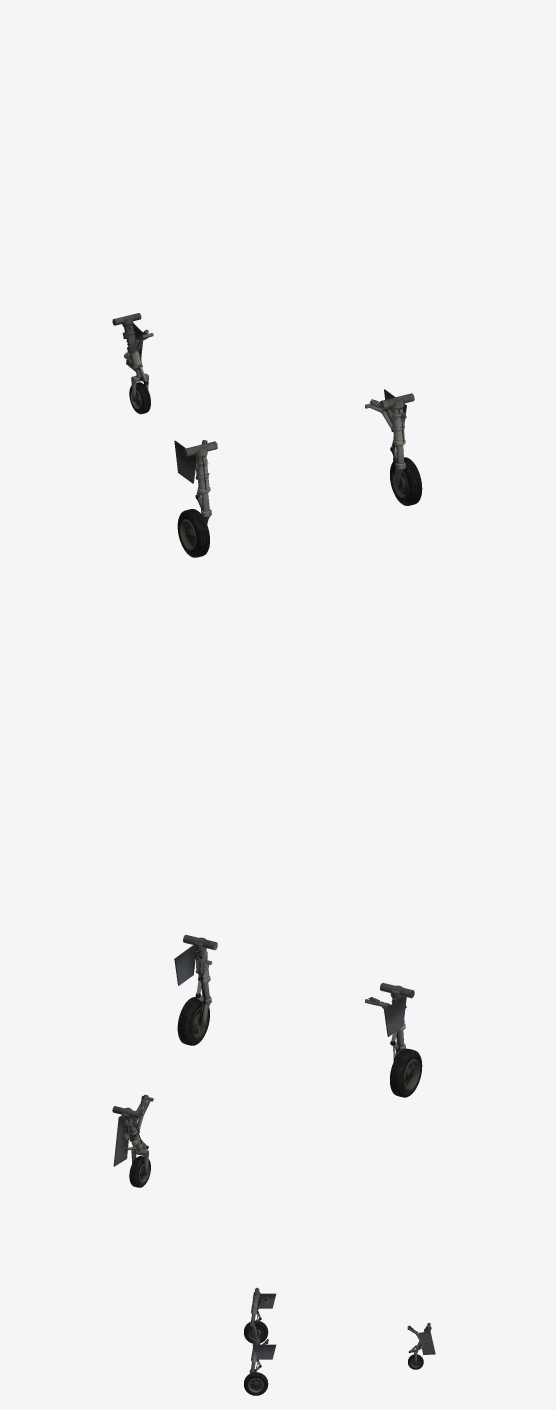
The model's file is e_etendard_gear.glb.
3 renders of one model, top to bottom at view 1: azimuth 30°, elevation 25°; view 2: azimuth 150°, elevation 25°; view 3: azimuth 270°, elevation 25°, orthographic. The views are drawn at different scales.
Parts seen in each view (by area): view 1: body|SE_paint; view 2: body|SE_paint; view 3: body|SE_paint.
Part boxes in pixels (x1,y1,x2,y2): body|SE_paint: (112,313,422,557); body|SE_paint: (112,935,422,1187); body|SE_paint: (244,1287,435,1395).
Bounding box in the file's own units: 3.56 × 4.58 × 14.31.
1 material, 1 textured.
